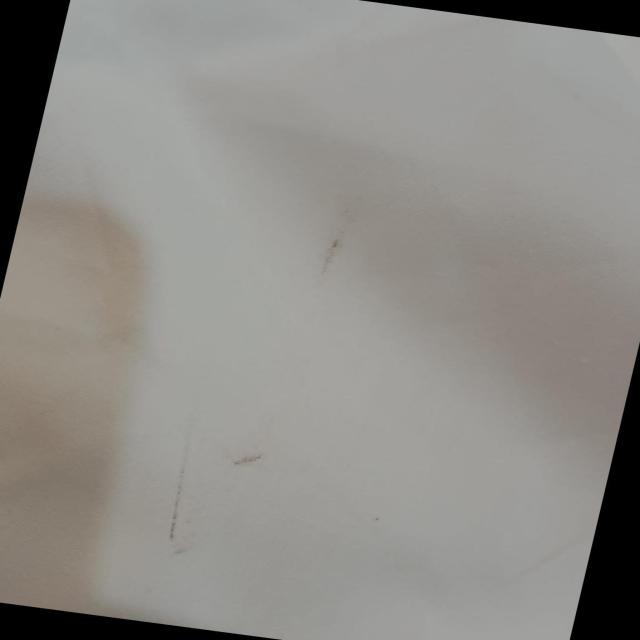stain: (147, 424, 290, 574), (297, 194, 370, 292)
